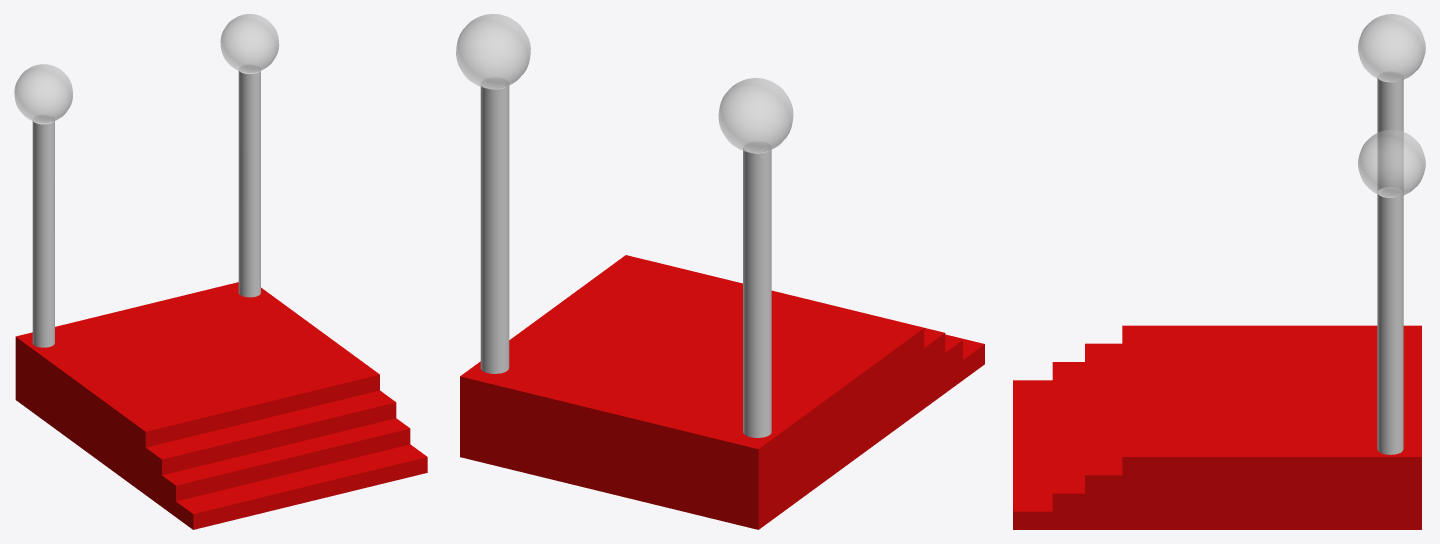
Rendered from launchpad.fbx.
The picture shows the model from 3 angles, left to right: view 1: azimuth 30°, elevation 25°; view 2: azimuth 150°, elevation 25°; view 3: azimuth 270°, elevation 25°; orthographic projection. The views are drawn at different scales.
Visible parts, largest first — view 1: pCube4, polySurface7, polySurface8, polySurface6, polySurface5; view 2: pCube4, polySurface8, polySurface7, polySurface6, polySurface5; view 3: pCube4, polySurface8, polySurface6, polySurface5, polySurface7.
Part boxes in pixels (x1=…): pCube4: x1=15, y1=282, x2=427, y2=529; polySurface7: x1=32, y1=115, x2=54, y2=347; polySurface8: x1=238, y1=65, x2=260, y2=297; polySurface6: x1=220, y1=14, x2=279, y2=72; polySurface5: x1=14, y1=64, x2=72, y2=123; pCube4: x1=460, y1=255, x2=984, y2=529; polySurface8: x1=480, y1=77, x2=509, y2=373; polySurface7: x1=743, y1=141, x2=771, y2=437; polySurface6: x1=456, y1=14, x2=530, y2=88; polySurface5: x1=718, y1=78, x2=793, y2=152; pCube4: x1=1013, y1=325, x2=1421, y2=529; polySurface8: x1=1377, y1=187, x2=1403, y2=454; polySurface6: x1=1358, y1=129, x2=1425, y2=197; polySurface5: x1=1358, y1=14, x2=1425, y2=81; polySurface7: x1=1377, y1=71, x2=1403, y2=191.
Bounding box in the file's own units: 5.12 × 6.45 × 6.19.
